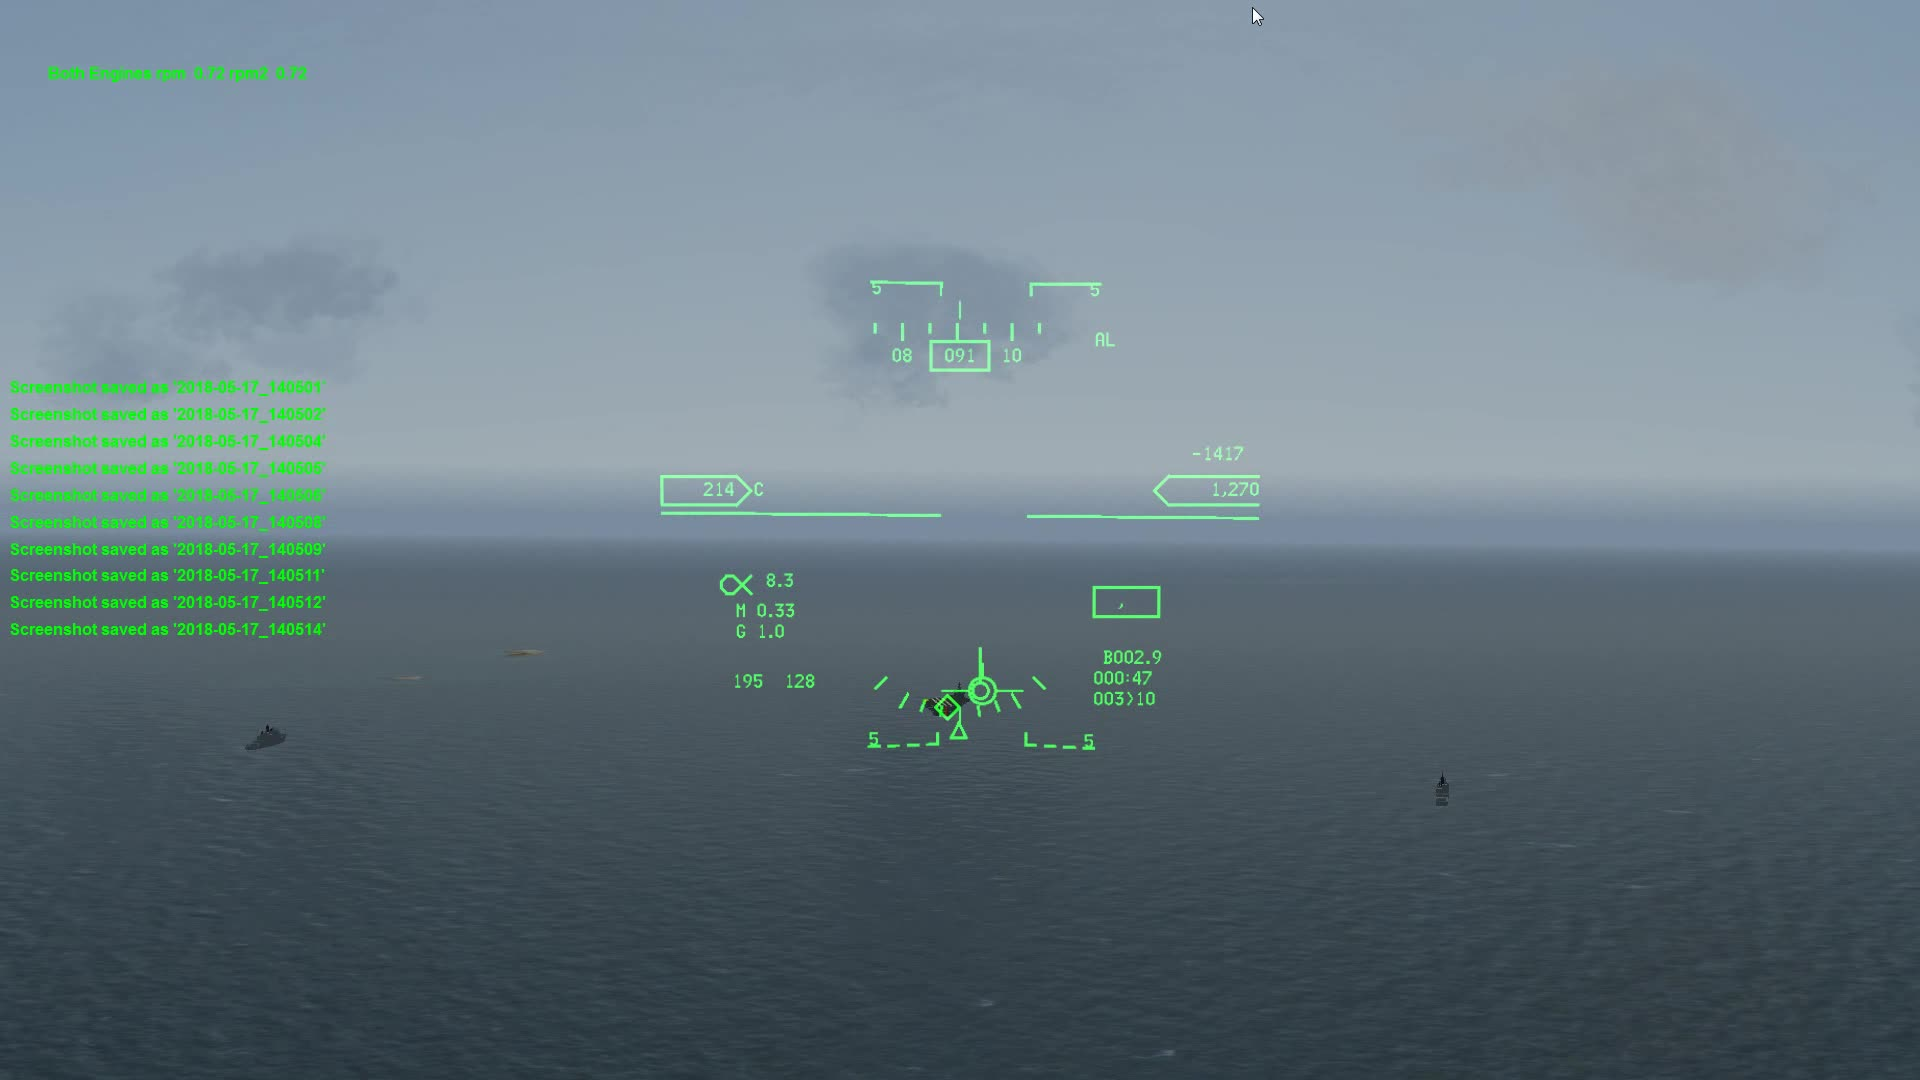speed vector: (945, 645, 1026, 713)
